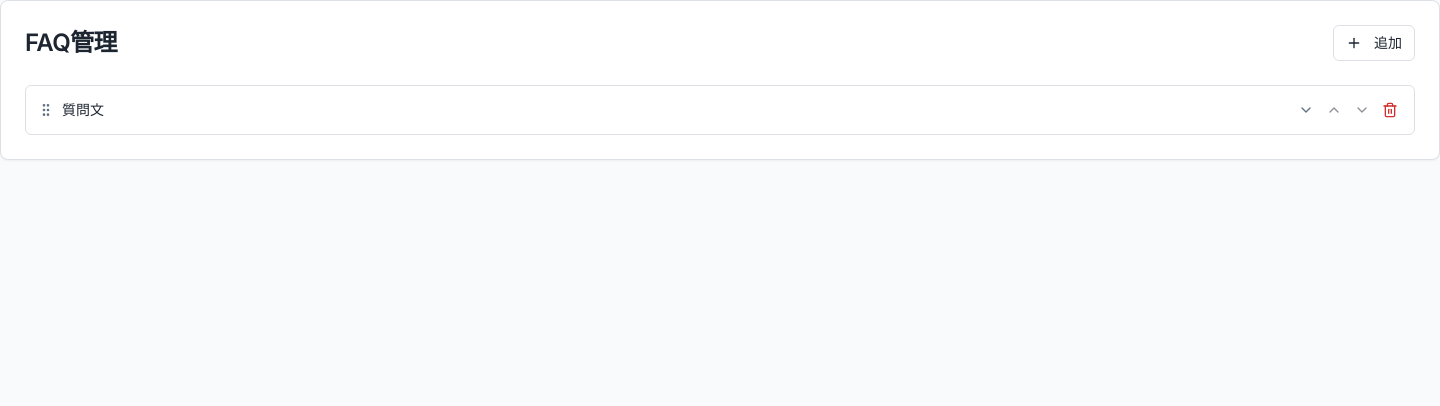
Test: FAQManager › handleDelete › collapses the edit form when the expanded FAQ is deleted
Click the button "質問文". click: (83, 110)
box: [62,100,1314,120]
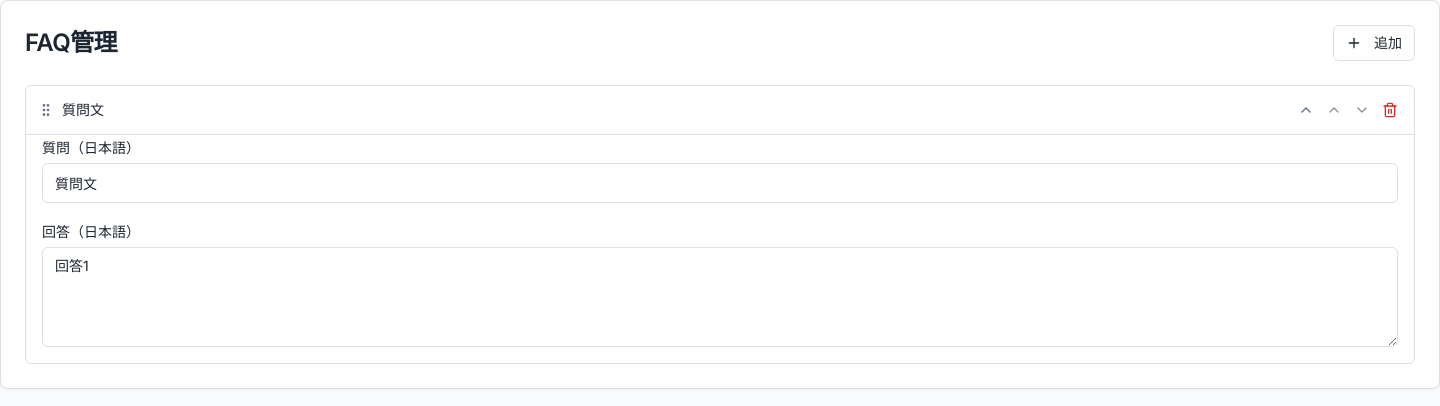
Expected: the field with placeholder "質問を入力" is shown, [42,163,1398,203]
Click the button named "削除". click: (1390, 110)
box: [1378,98,1402,122]
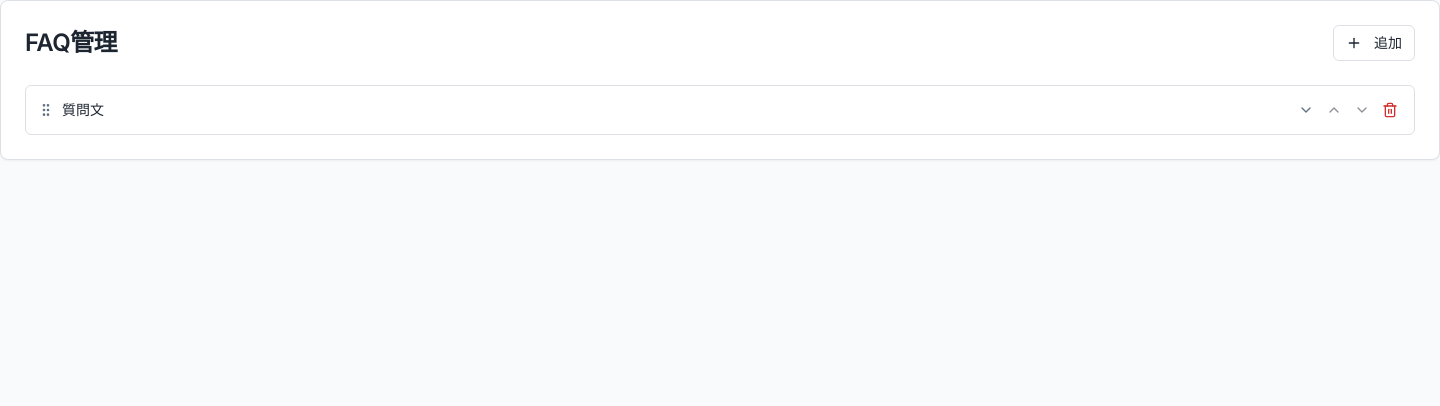
Expected: the field with placeholder "質問を入力" is gone
